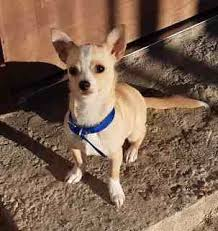chihuahua: (39, 19, 158, 210)
